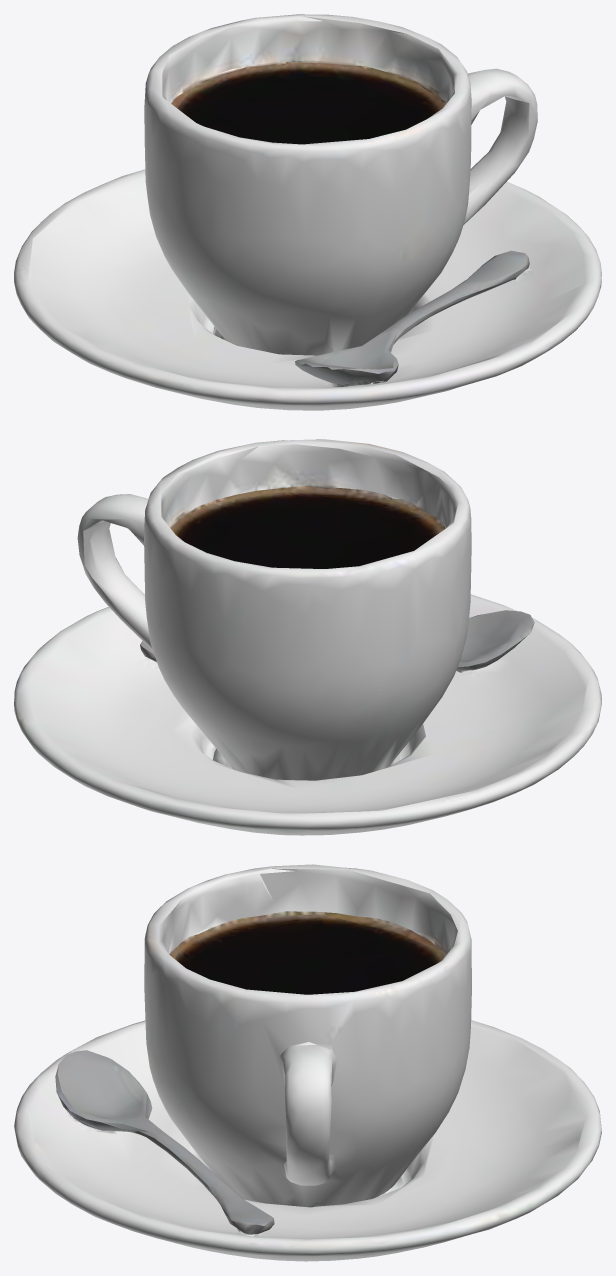
The model's file is cup.glb.
3 renders of one model, top to bottom at view 1: azimuth 30°, elevation 25°; view 2: azimuth 150°, elevation 25°; view 3: azimuth 270°, elevation 25°, orthographic.
Parts seen in each view (by area): view 1: cup; view 2: cup; view 3: cup.
Boxes of the visible parts, left/top/right/bottom form: cup: left=14, top=14, right=601, bottom=410; cup: left=14, top=439, right=601, bottom=835; cup: left=14, top=864, right=601, bottom=1261.
Bounding box in the file's own units: 0.1809 × 0.09 × 0.1811.
1 material, 1 textured.
